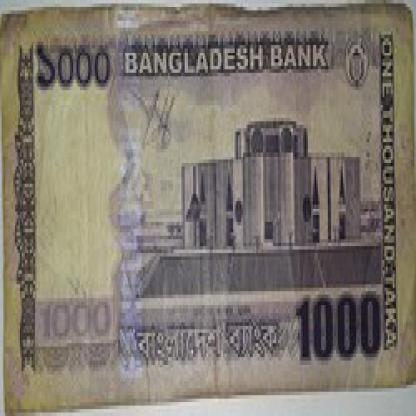One Thousand taka: (293, 295, 383, 364), (34, 42, 112, 94), (36, 302, 114, 340)
